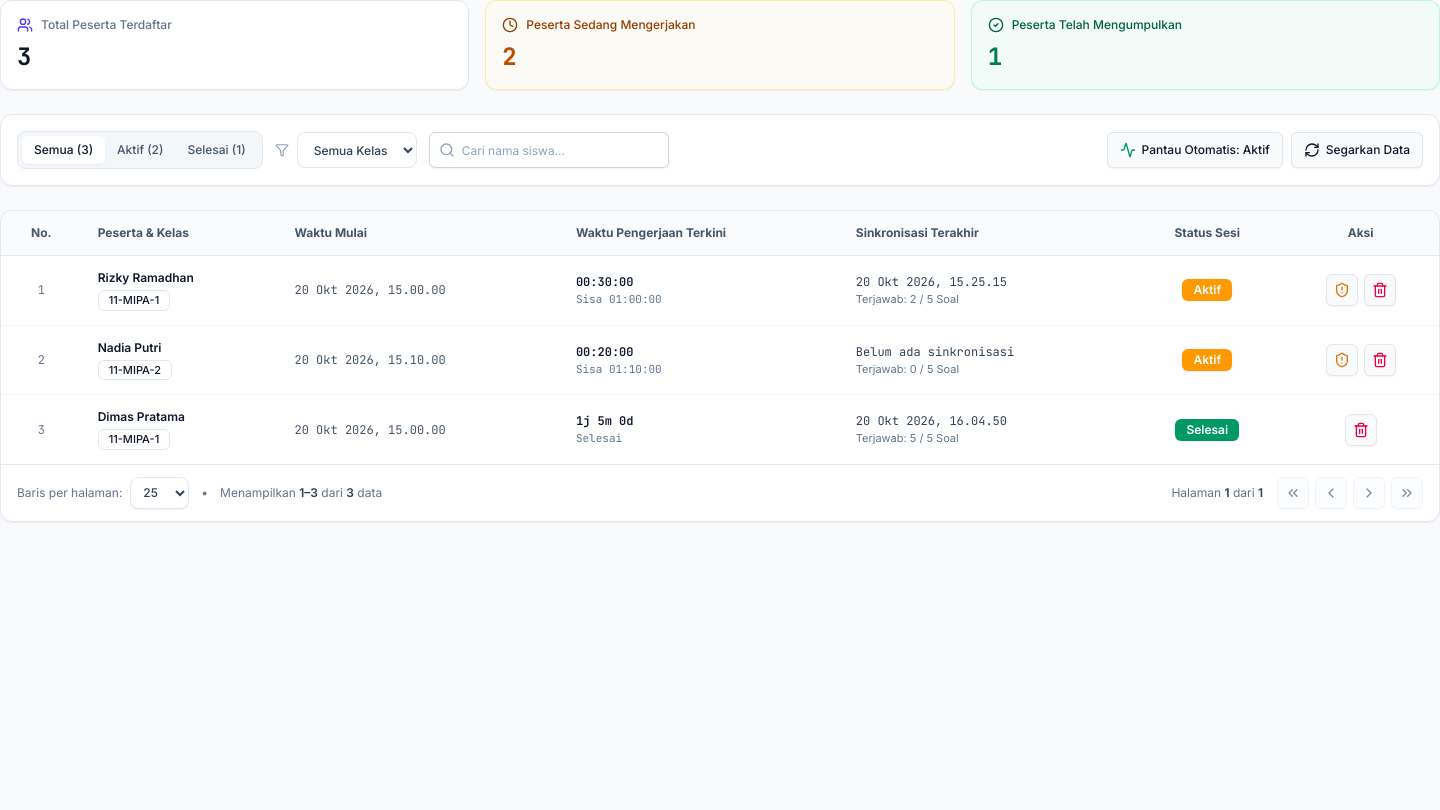
F5-04: Pemantauan Sesi Aktif / Real-Time Session Monitoring (ADM-MONI-01) › SessionMonitoringView Component › menampilkan dialog konfirmasi saat tombol Paksa Kumpulkan diklik dan memperbarui status sesi peserta
Click the button named "Paksa Kumpulkan" at (1342, 290), box 1326,274 -> 1358,306
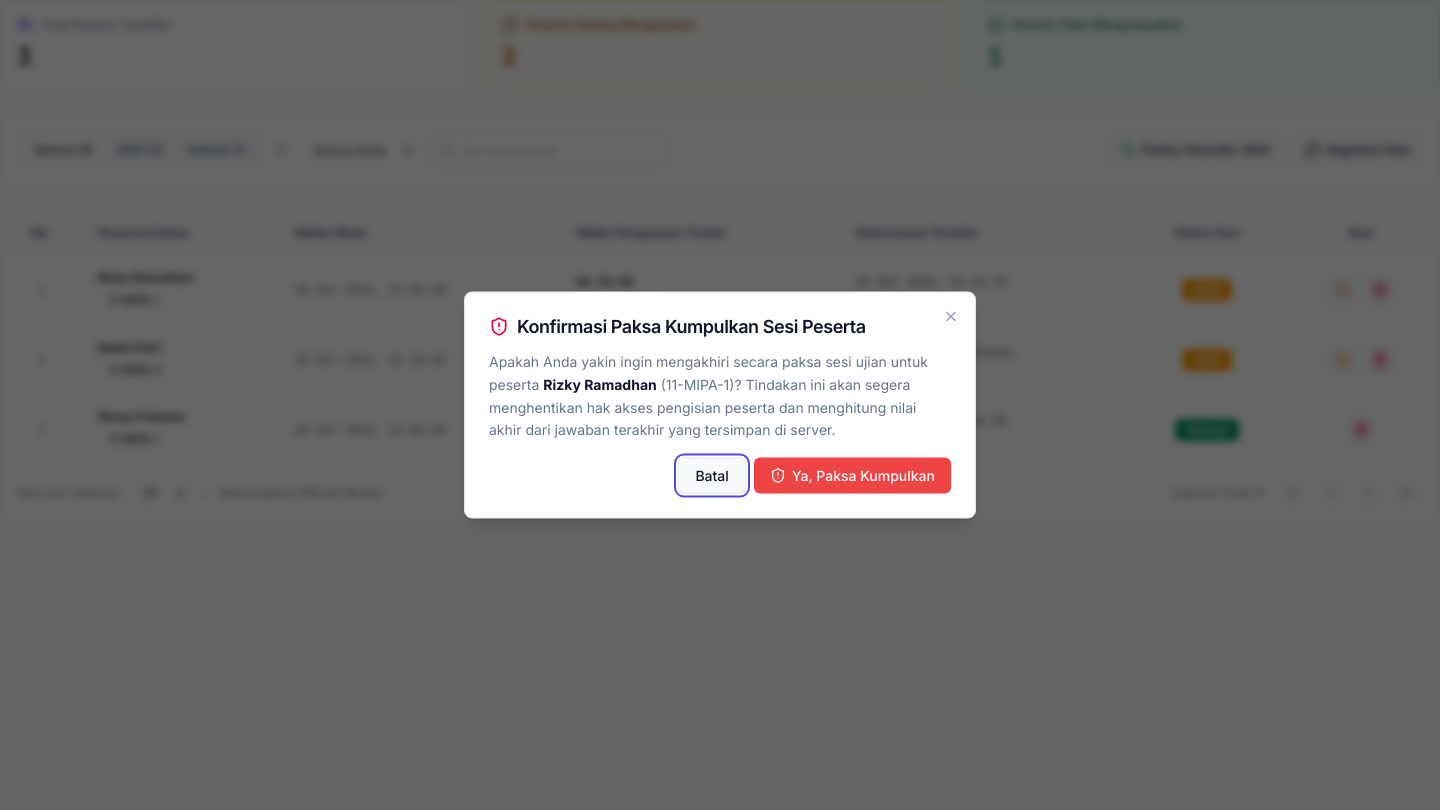
Expected: the text "Konfirmasi Paksa Kumpulkan Sesi Peserta" is shown, 517,318 -> 866,336
Click the button "Ya, Paksa Kumpulkan" at (852, 476), box 754,458 -> 951,494
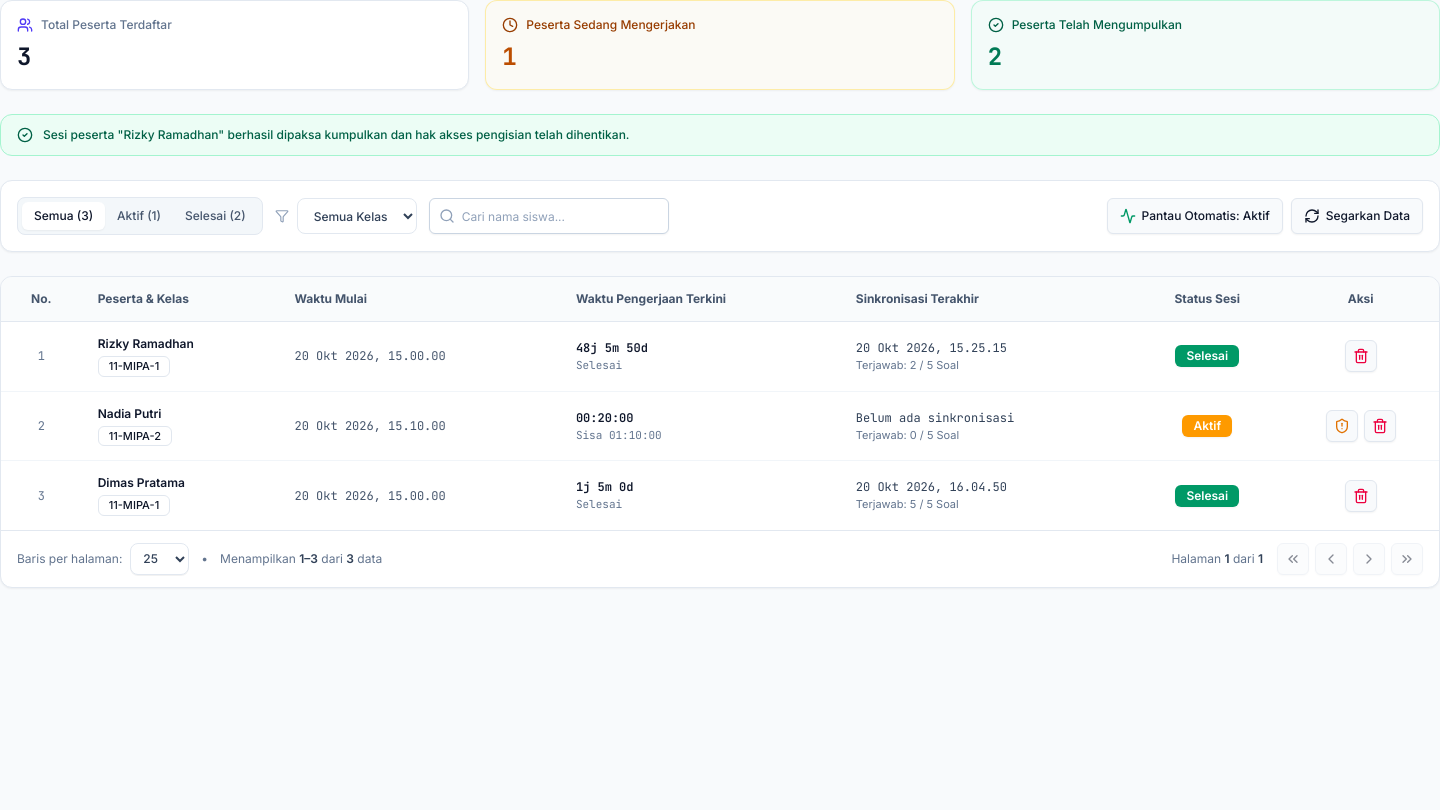
Expected: the text with test id "metric-active-sessions" reads "1", 502,41 -> 516,72
Expected: the text with test id "metric-completed-sessions" reads "2", 988,41 -> 1002,72
Expected: the text "berhasil dipaksa kumpulkan dan hak akses pengisian telah dihentikan" is shown, 43,127 -> 630,142
